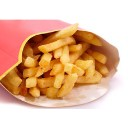frenchfries: (6, 29, 111, 99)
